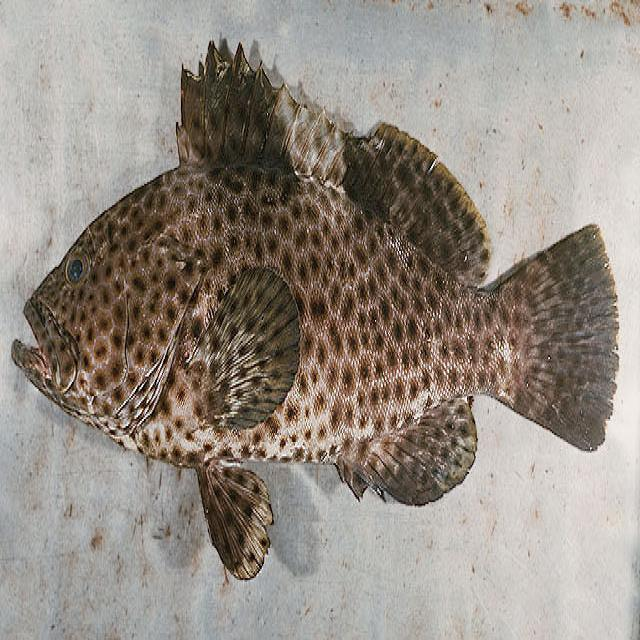ikan: (8, 29, 623, 582)
